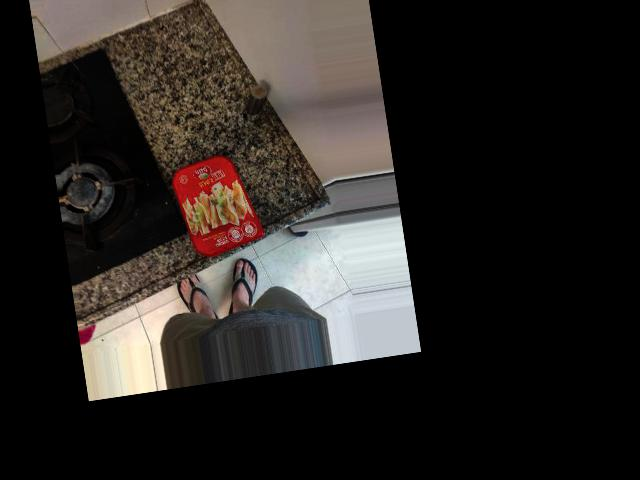cheese: (165, 147, 273, 267)
